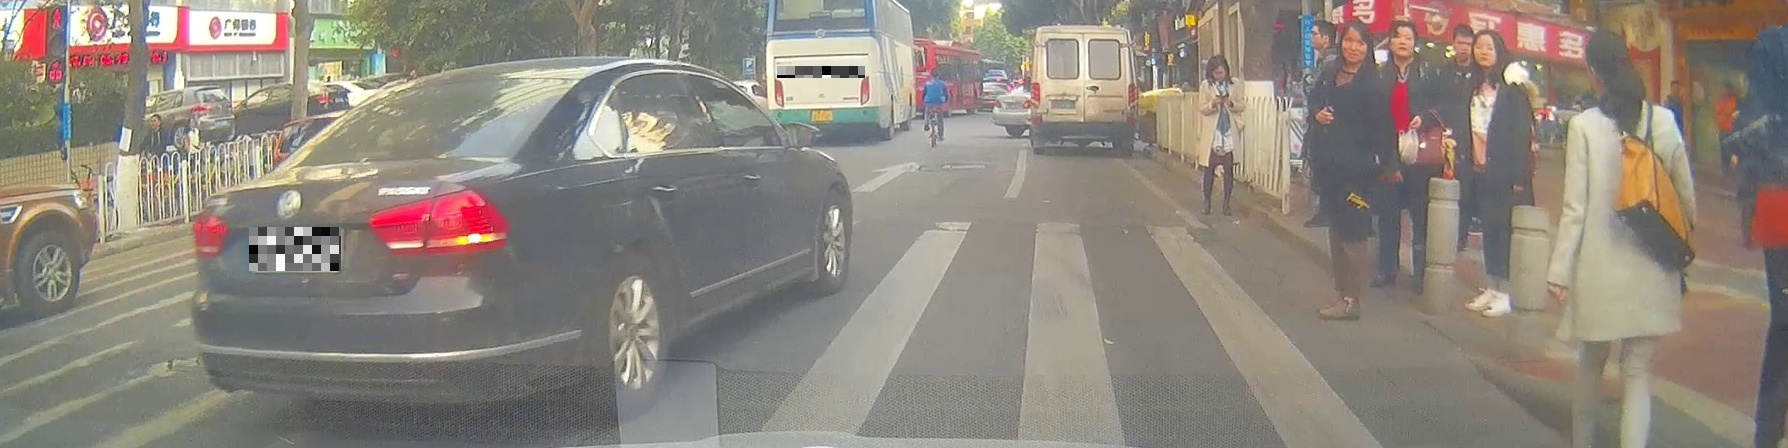L_light: (189, 211, 230, 263), (1029, 81, 1043, 127)
R_light: (366, 186, 513, 258), (1125, 81, 1138, 128)
T_light: (351, 150, 390, 162), (1076, 26, 1092, 30)
day-no: (1029, 25, 1138, 157)
day-right: (190, 62, 525, 420)
plate_1: (249, 227, 341, 271)
plate_2: (777, 66, 865, 78)
